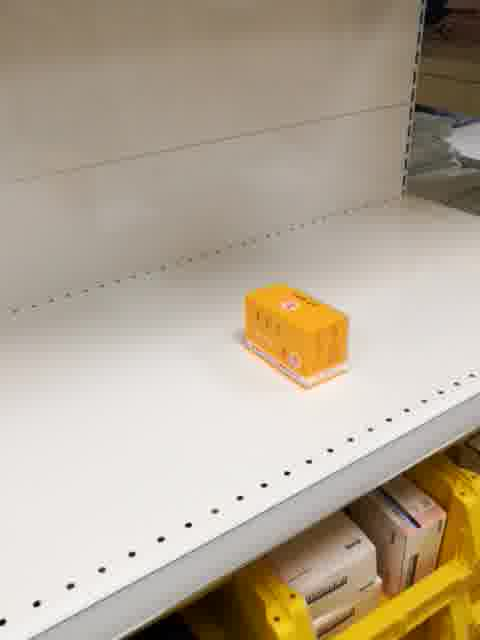jasminetea: (242, 283, 351, 389)
